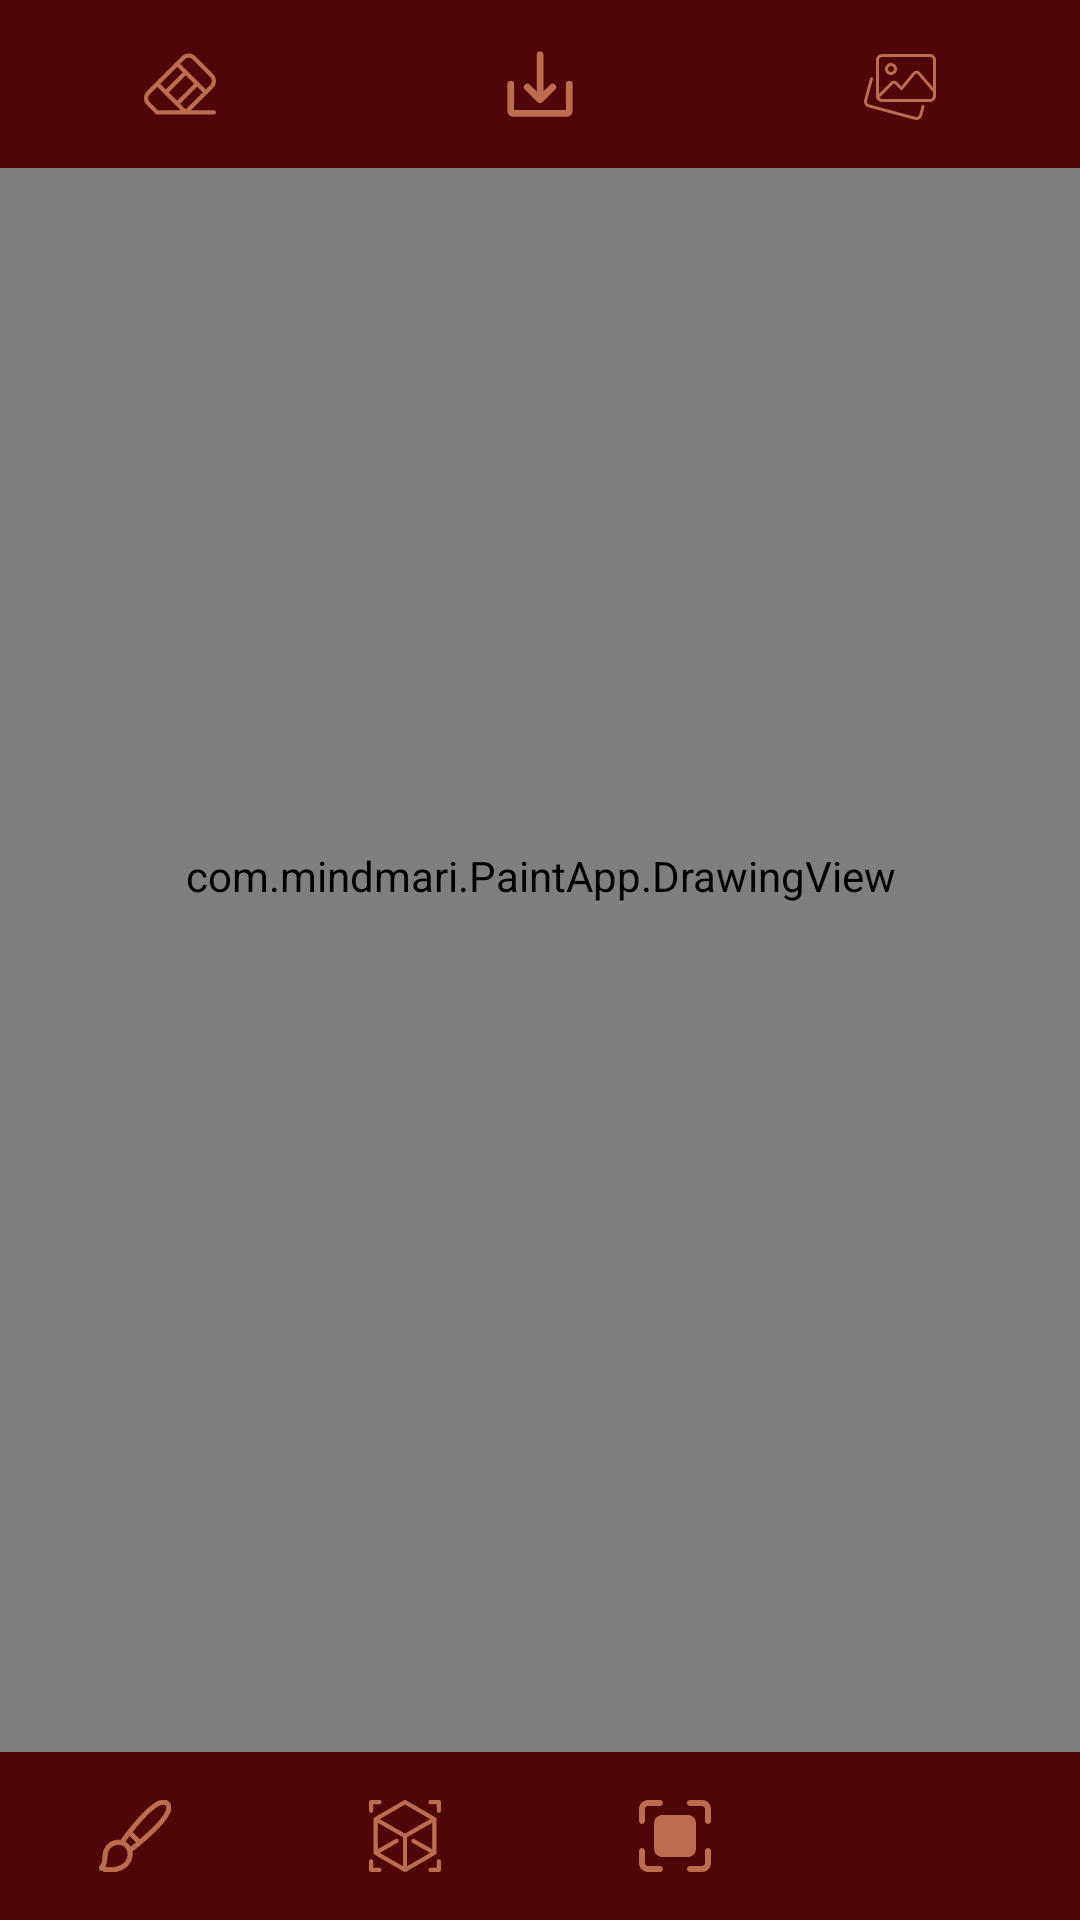

Point at icon controls on the screen. Image size 1080 x 1920, points as (x=x, y=y).
brush size: (x=675, y=1836)
clear: (x=180, y=84)
paintbrush: (x=135, y=1836)
save: (x=540, y=84)
shape choose: (x=405, y=1836)
upload: (x=900, y=87)
